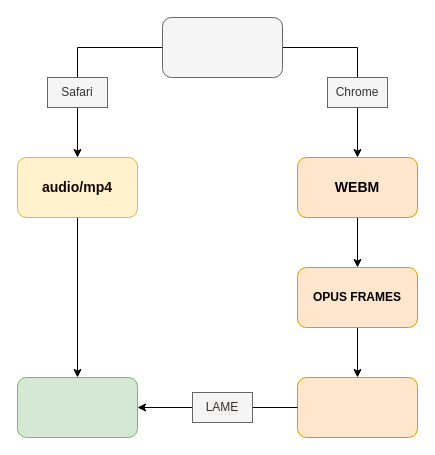
Some shapes in this 435 by 455 pixel diagram are drawn without their labels. Here are the shapes that lost their labels. From the top down, the centre of each, then its label:
the point at 222,47: Recorder
the point at 77,407: MP3
the point at 357,407: Audio Buffer
